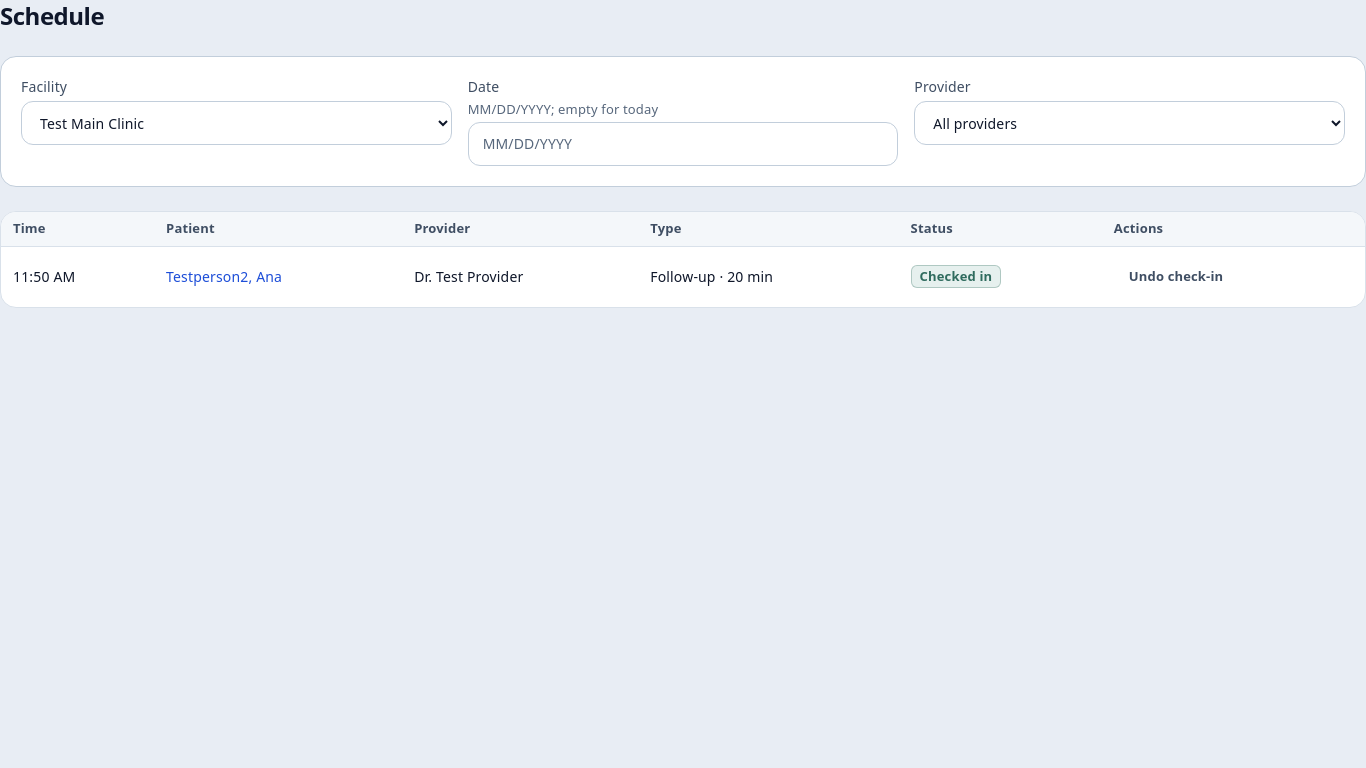
SchedulePage › undoes a check-in only with a reason
Click the button with aria-label "Undo check-in of" at (1176, 277), box x1=1114 y1=255 x2=1238 y2=299
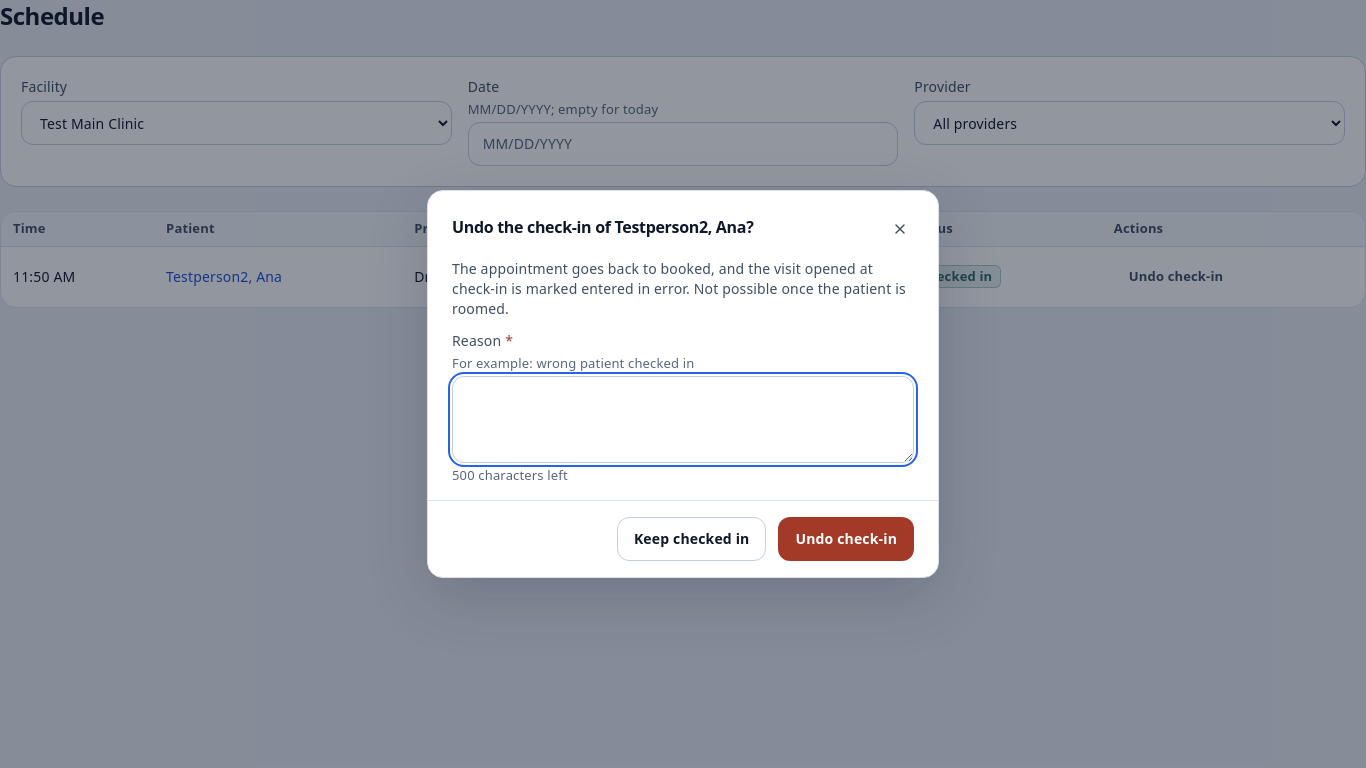
Click the button "Undo check-in" at (846, 539), box x1=778 y1=517 x2=914 y2=561
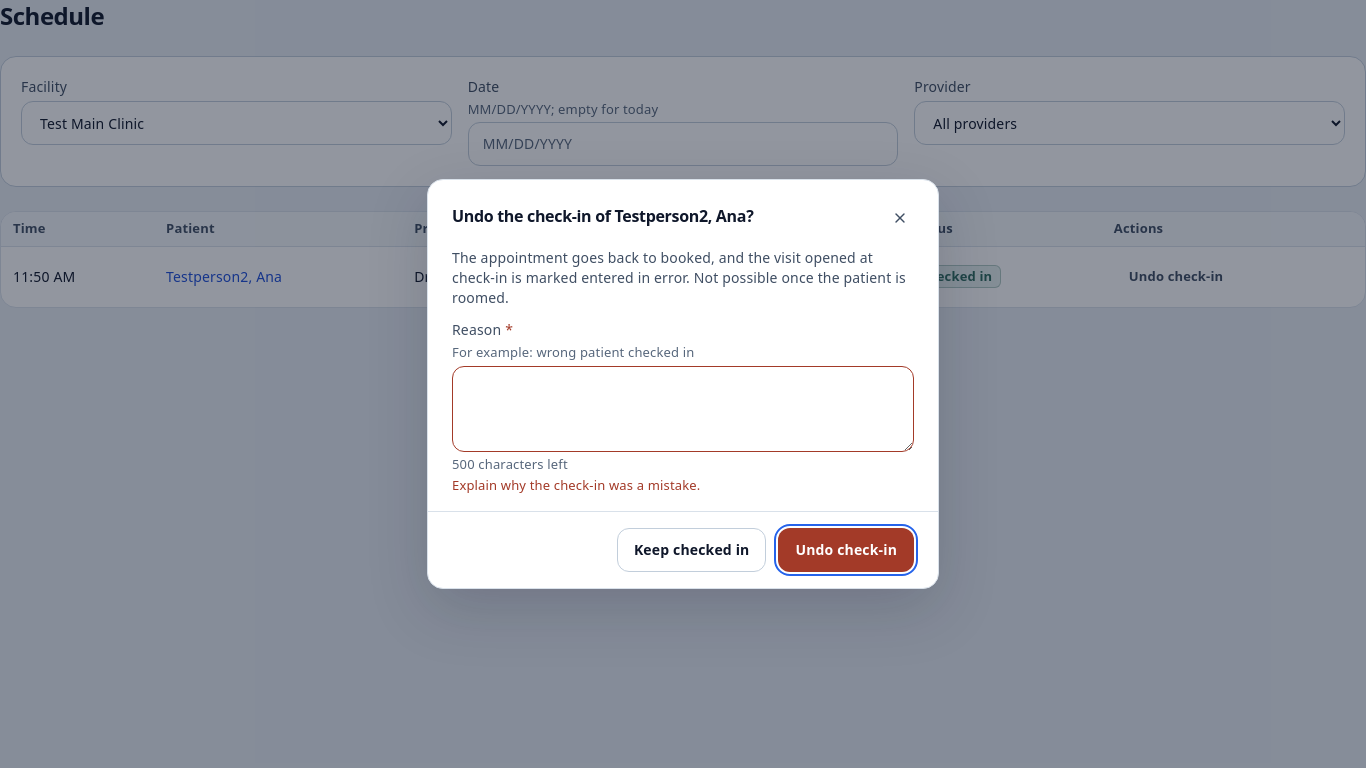
Result: the text "Explain why the check-in was a mistake." is shown at x1=452 y1=476 x2=700 y2=494
Type "Wrong patient checked in" into the text box labelled "Reason*" at (683, 409), box x1=452 y1=366 x2=914 y2=452
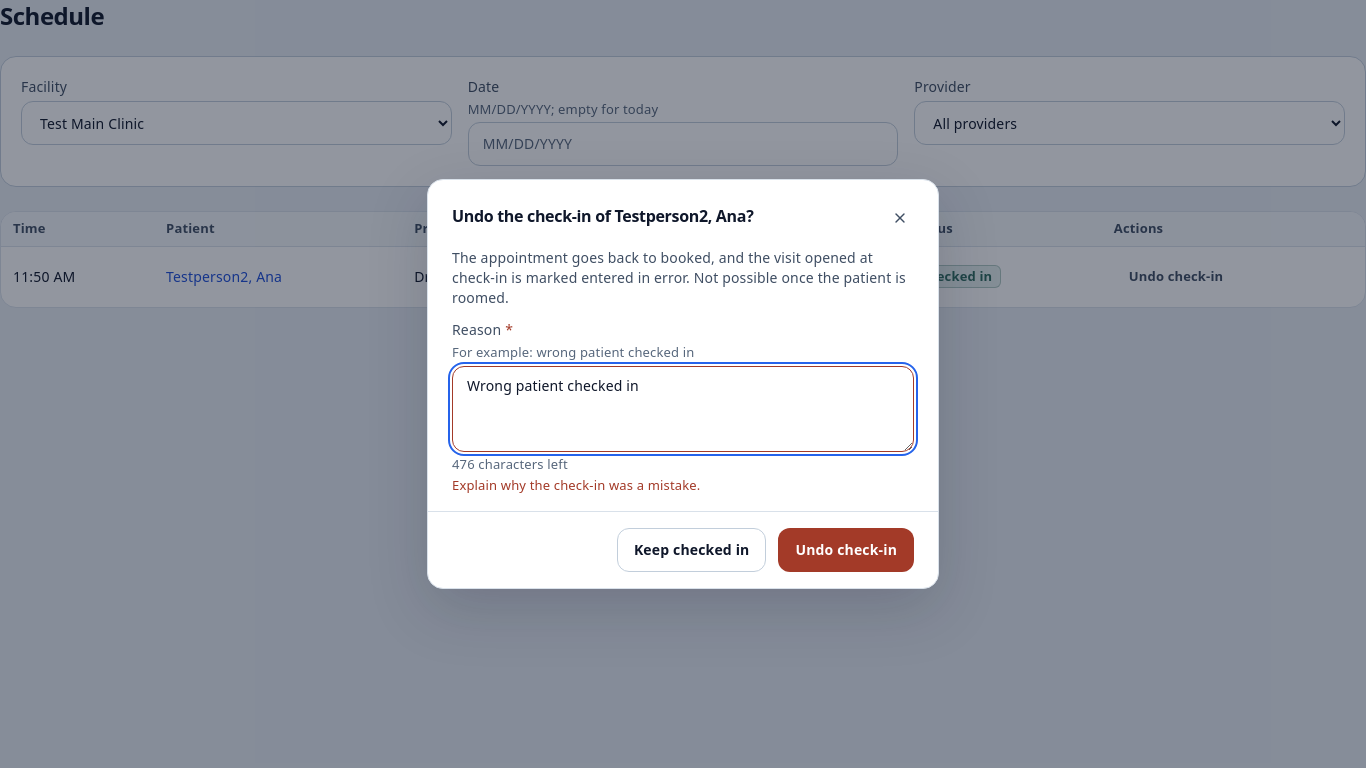
Click the button "Undo check-in" at (846, 550), box x1=778 y1=528 x2=914 y2=572
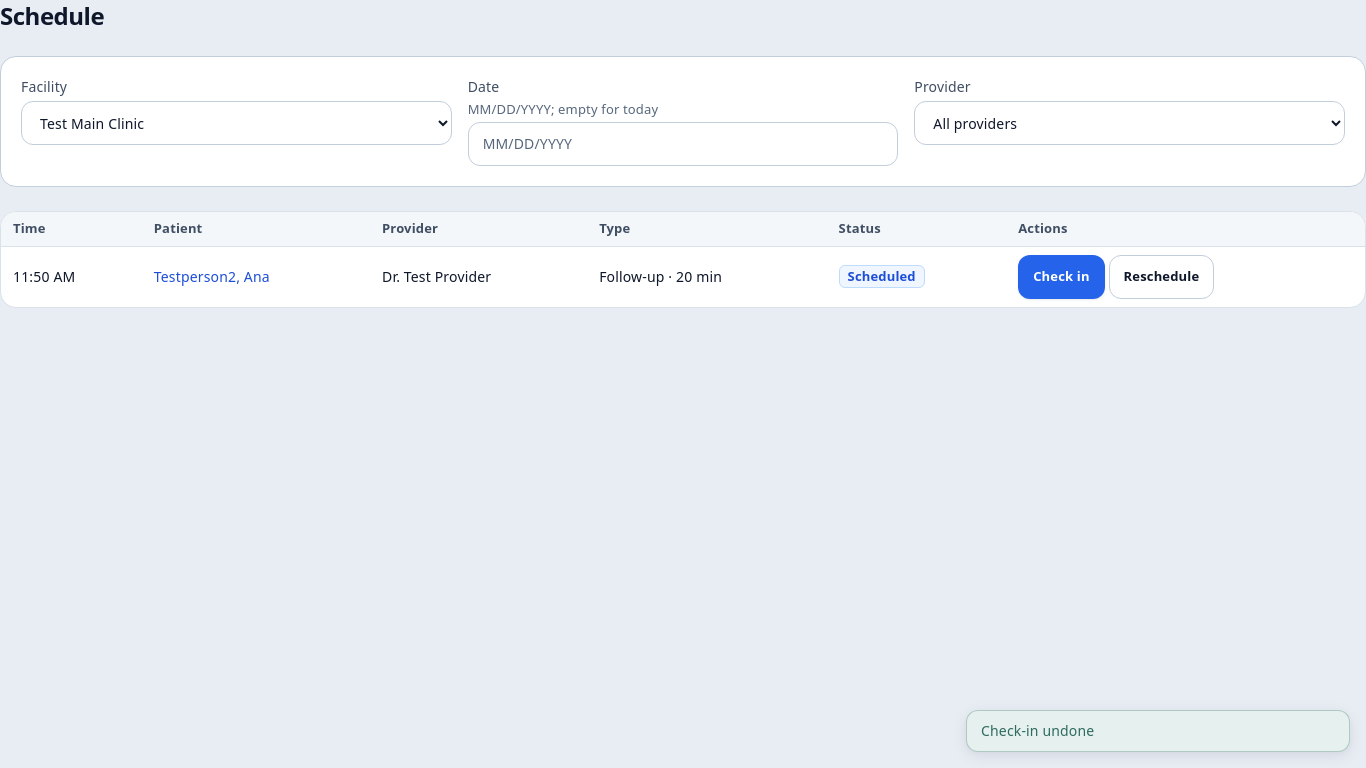
Result: the text "Check-in undone" is shown at x1=966 y1=710 x2=1350 y2=752
